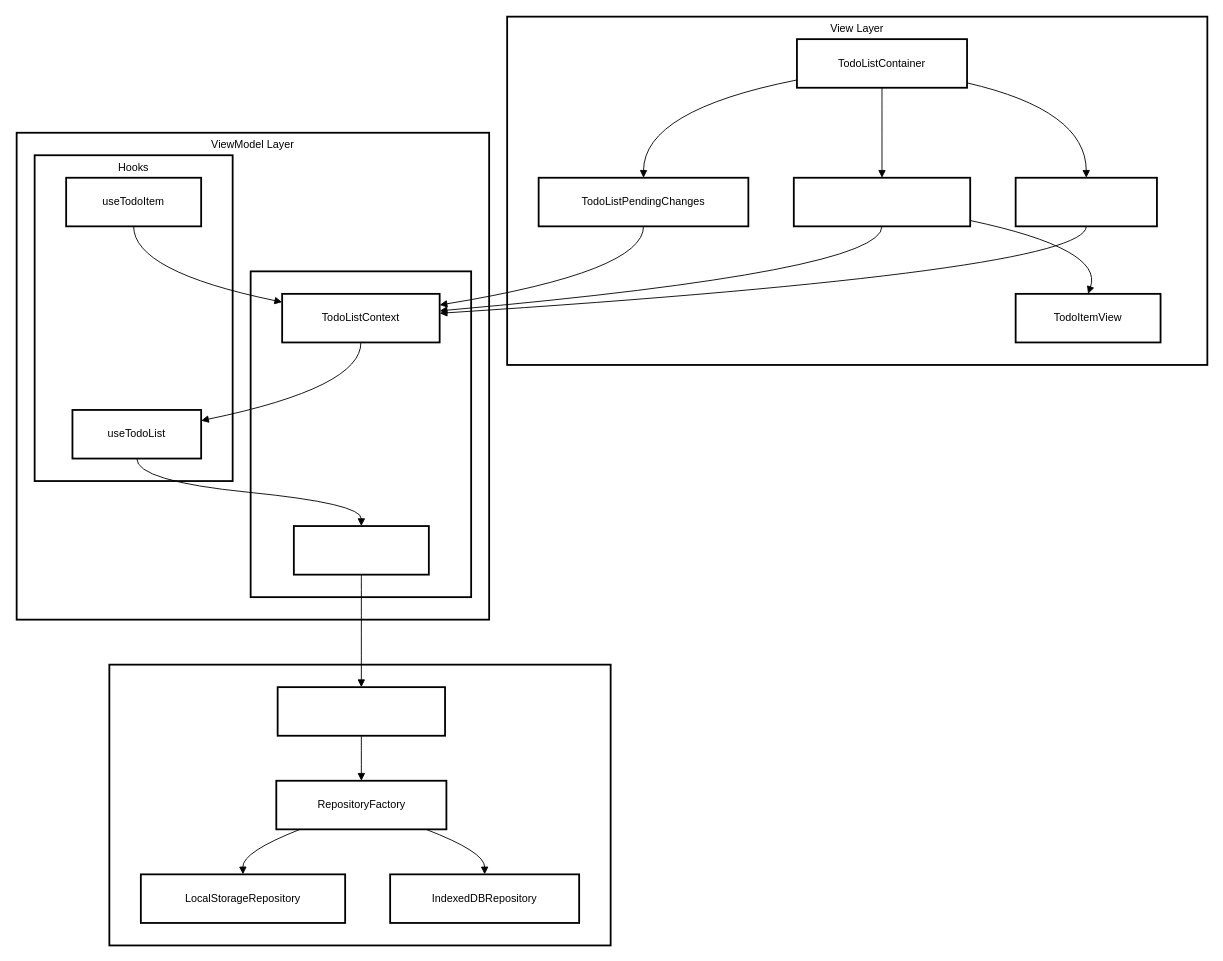
The diagram is 1223 pixels wide and 961 high, and some of its shapes have lost their labels. The shapes that lost their labels are listed below. From the top down, each one's box as (x1, y1, x2, y2) in pixels, then its label:
(792, 176, 971, 227): TodoItemContainer
(1014, 176, 1157, 227): TodoAddForm
(249, 270, 472, 598): Contexts
(292, 525, 429, 575): TodoContext
(276, 686, 446, 736): RepositoryFacade
(108, 663, 611, 946): Model Layer
